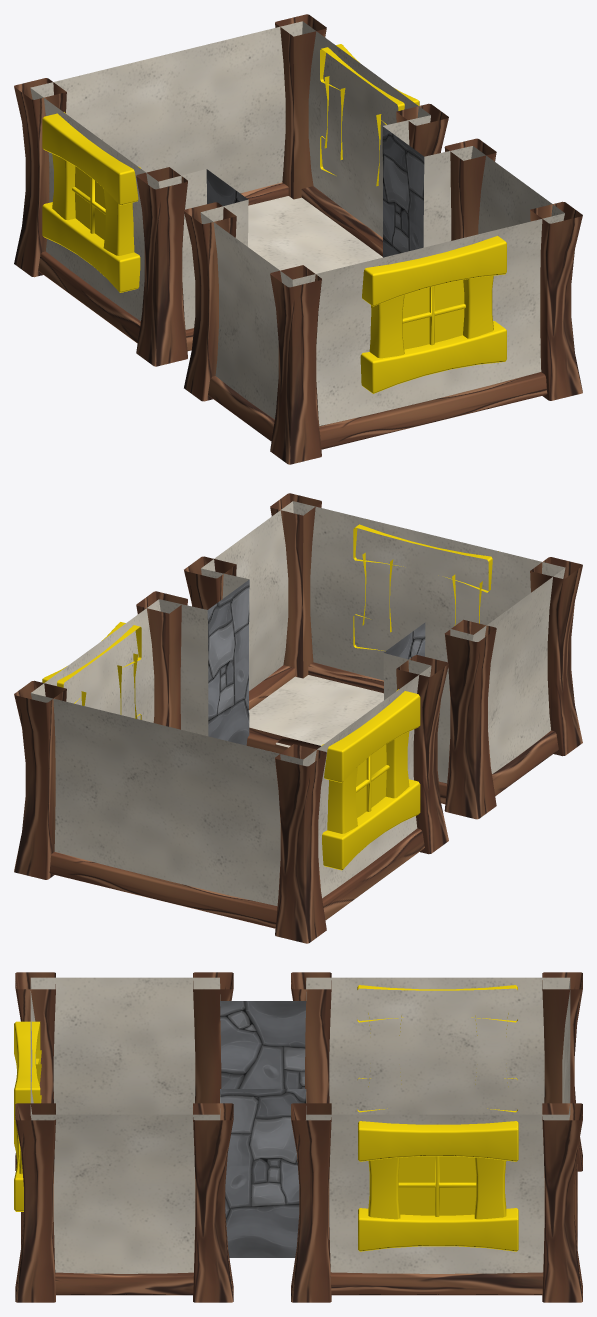
The model's file is house_top_floor2.FBX.
The picture shows the model from 3 angles, top to bottom: view 1: azimuth 30°, elevation 25°; view 2: azimuth 150°, elevation 25°; view 3: azimuth 270°, elevation 25°; orthographic projection. The views are drawn at different scales.
Visible parts, largest first — view 1: top_floor002; view 2: top_floor002; view 3: top_floor002.
Boxes of the visible parts, box(x1,y1,x2,y2) form: top_floor002: box(14, 14, 582, 464); top_floor002: box(14, 493, 582, 943); top_floor002: box(14, 972, 582, 1302).
Bounding box in the file's own units: 364 × 206 × 578.
